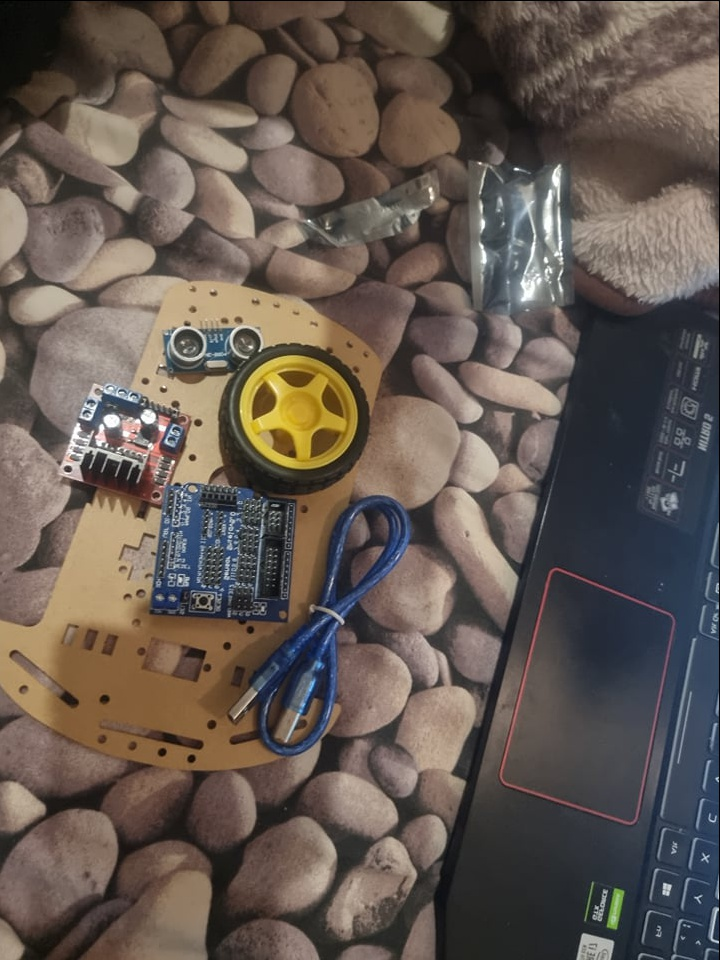5V EXPANSION: (150, 479, 298, 629)
MOTOR: (56, 376, 192, 506)
SENSOR: (159, 320, 268, 375)
